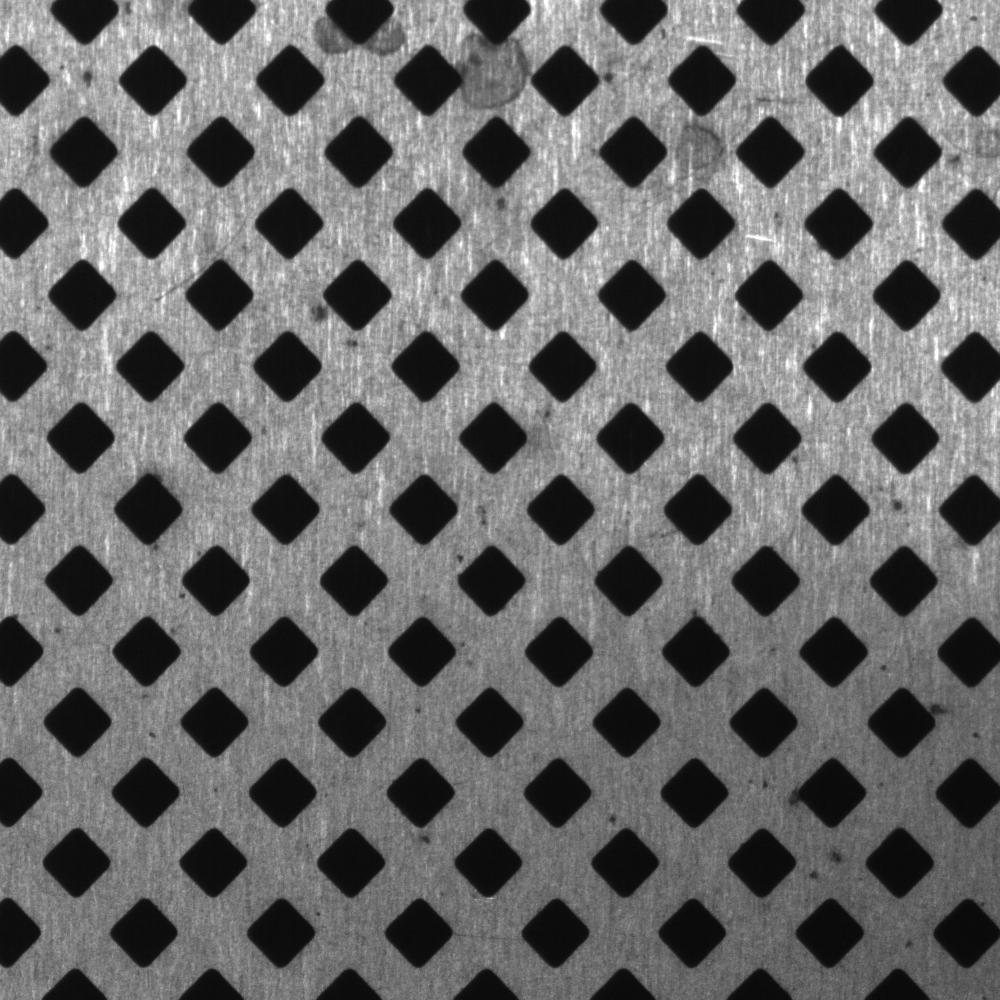Discolor: (451, 26, 537, 113), (667, 121, 731, 190), (942, 118, 1000, 186), (298, 3, 352, 68), (365, 17, 416, 77)
Etching: (296, 293, 337, 333), (600, 57, 641, 97), (926, 694, 957, 720), (489, 187, 514, 217), (343, 326, 364, 358)
